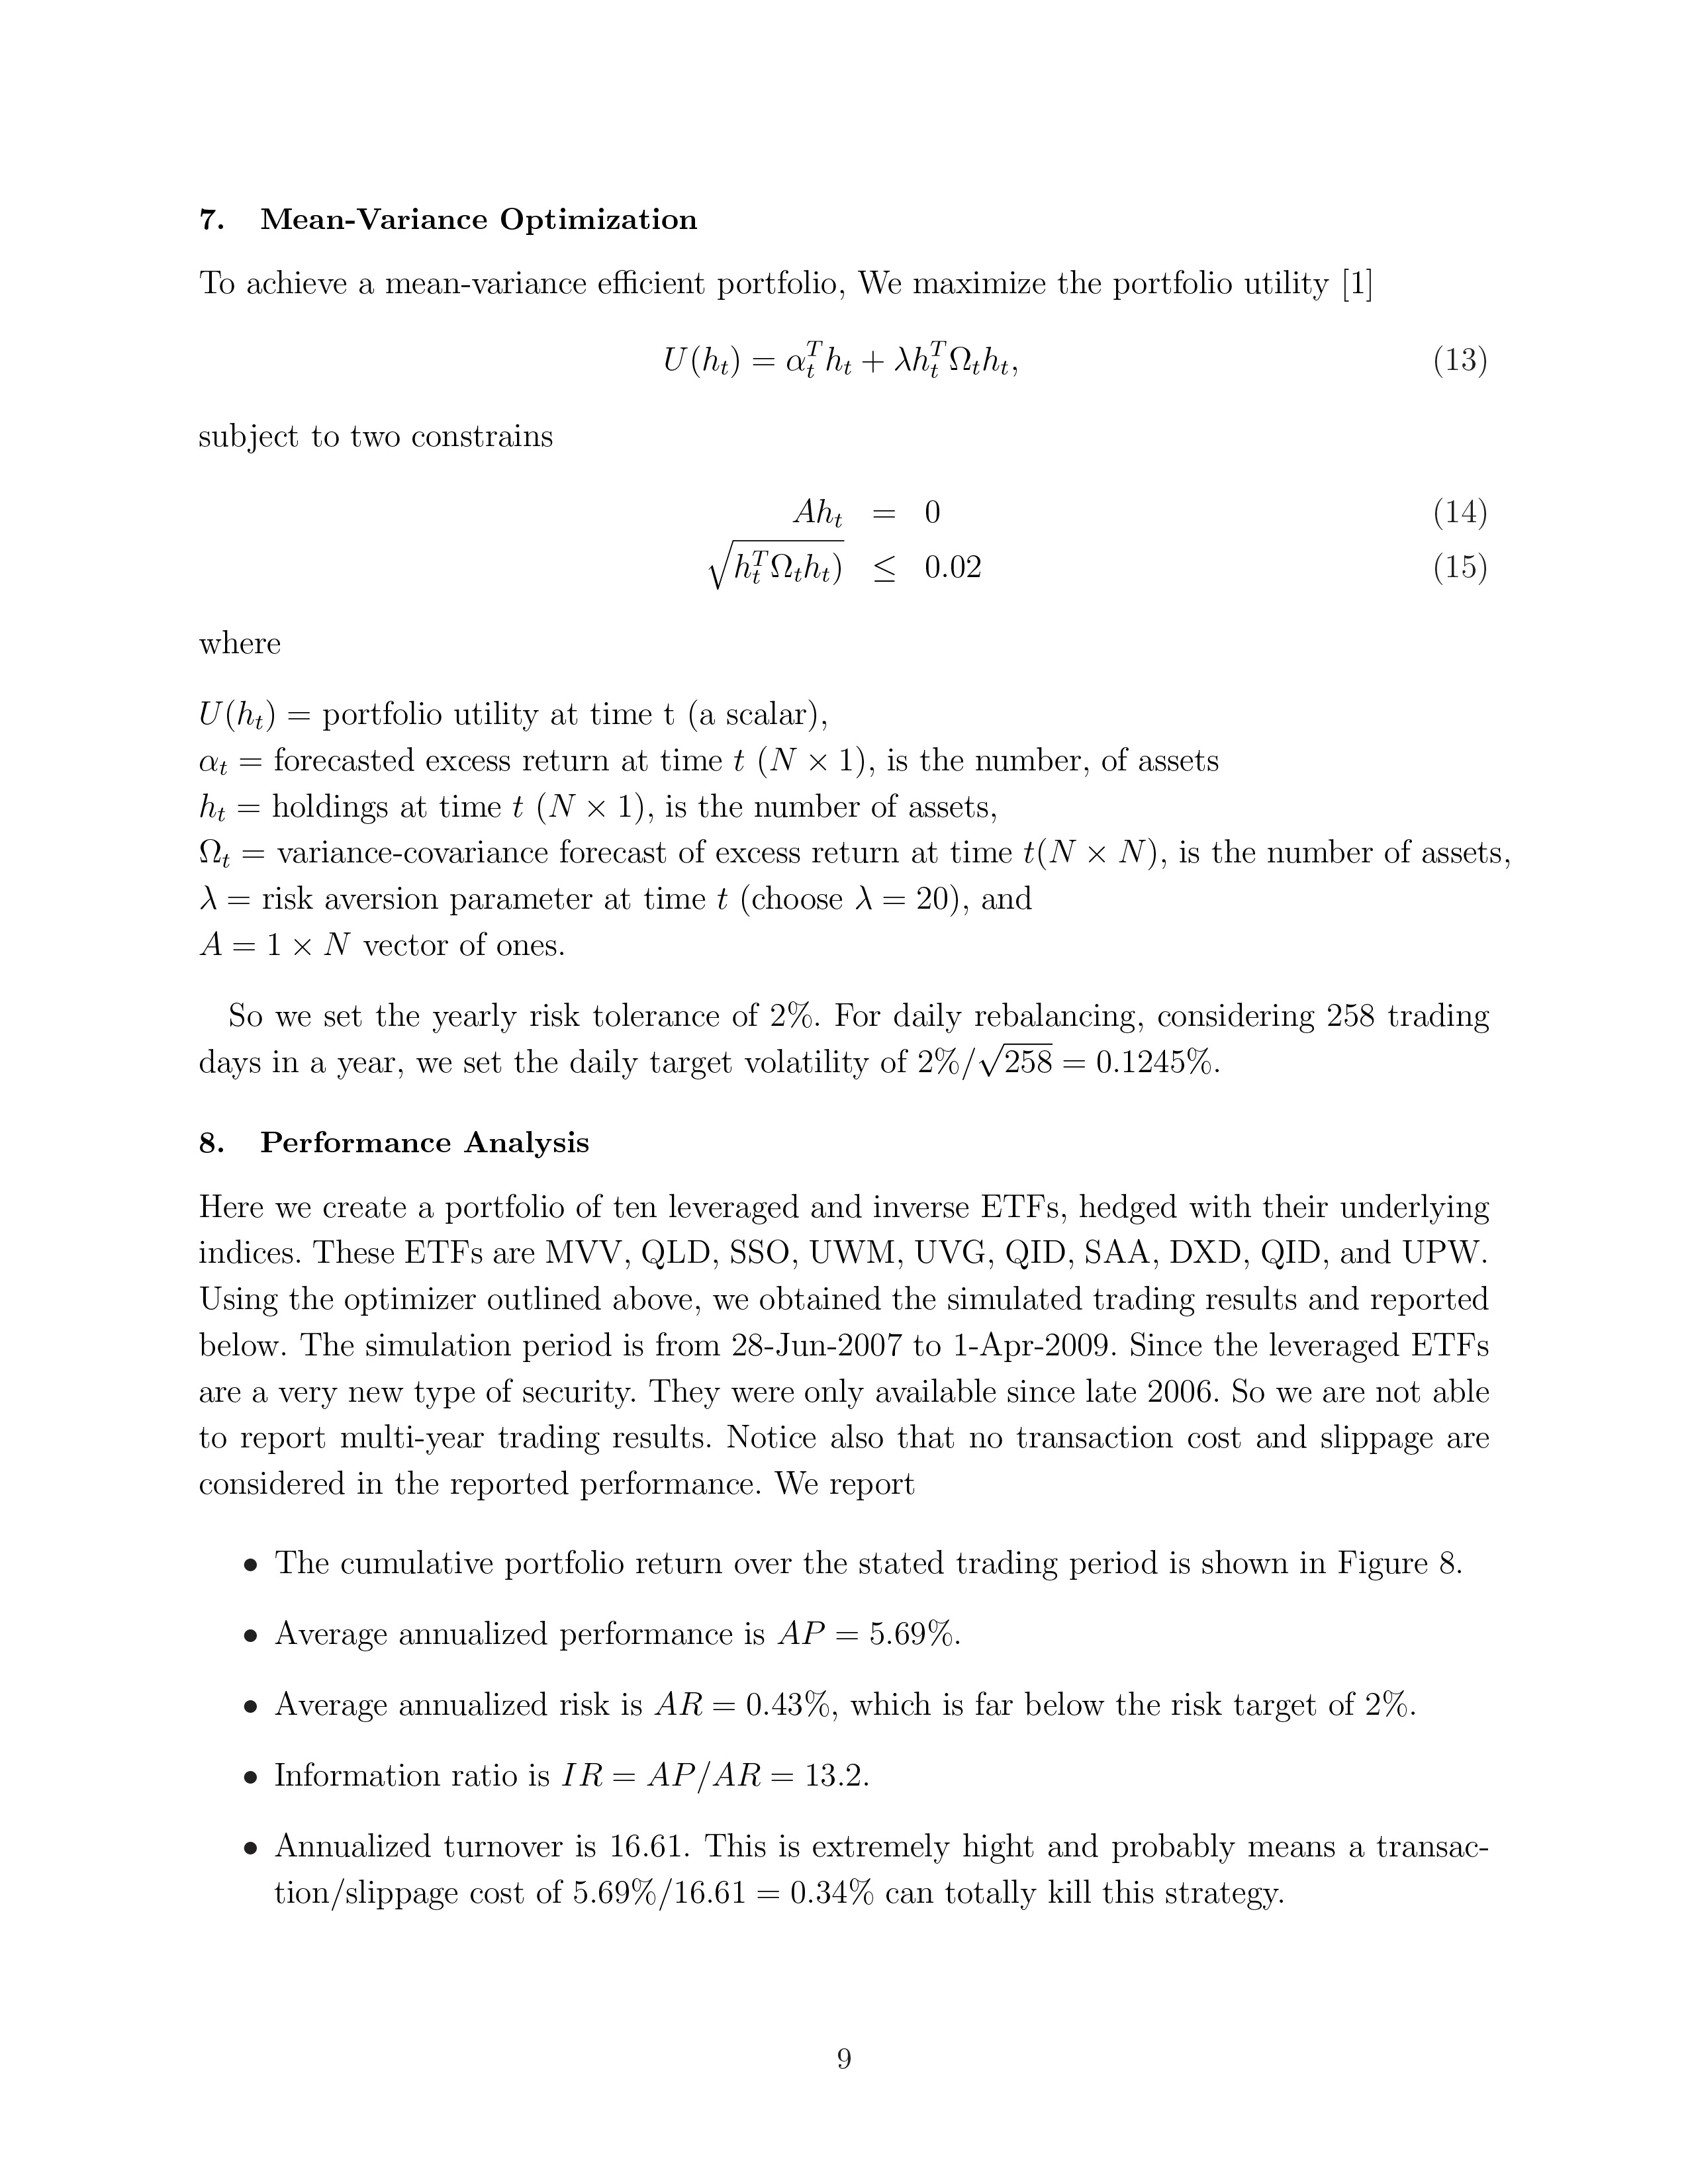list: (227, 1526, 1514, 1916), (179, 690, 1495, 975)
section: (172, 1117, 605, 1174), (186, 206, 700, 245)
text: (179, 1186, 1514, 1500), (186, 998, 1488, 1081), (195, 261, 1381, 307), (176, 413, 569, 463), (172, 619, 298, 663)
